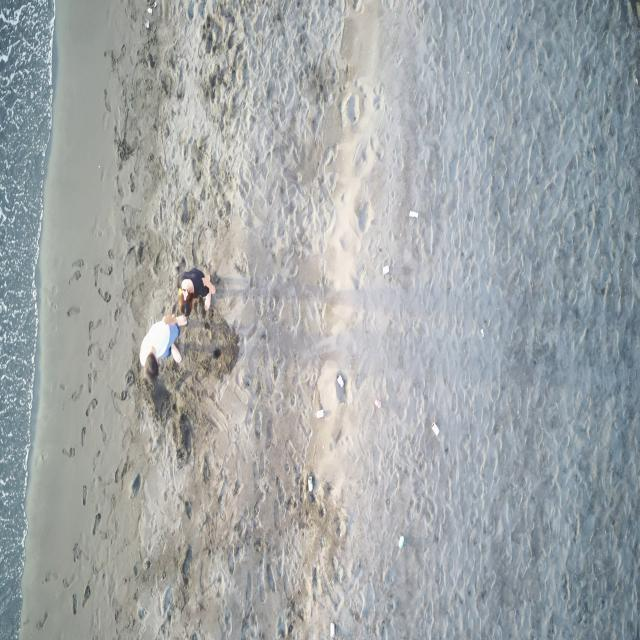Garbage: (336, 372, 346, 402), (336, 373, 343, 387), (432, 422, 439, 435), (307, 475, 312, 492), (397, 535, 404, 547), (329, 622, 335, 636), (316, 408, 324, 416), (408, 209, 417, 216), (373, 399, 380, 407), (382, 265, 388, 273), (144, 20, 148, 27), (147, 7, 151, 13), (480, 327, 483, 335), (151, 0, 154, 8)
